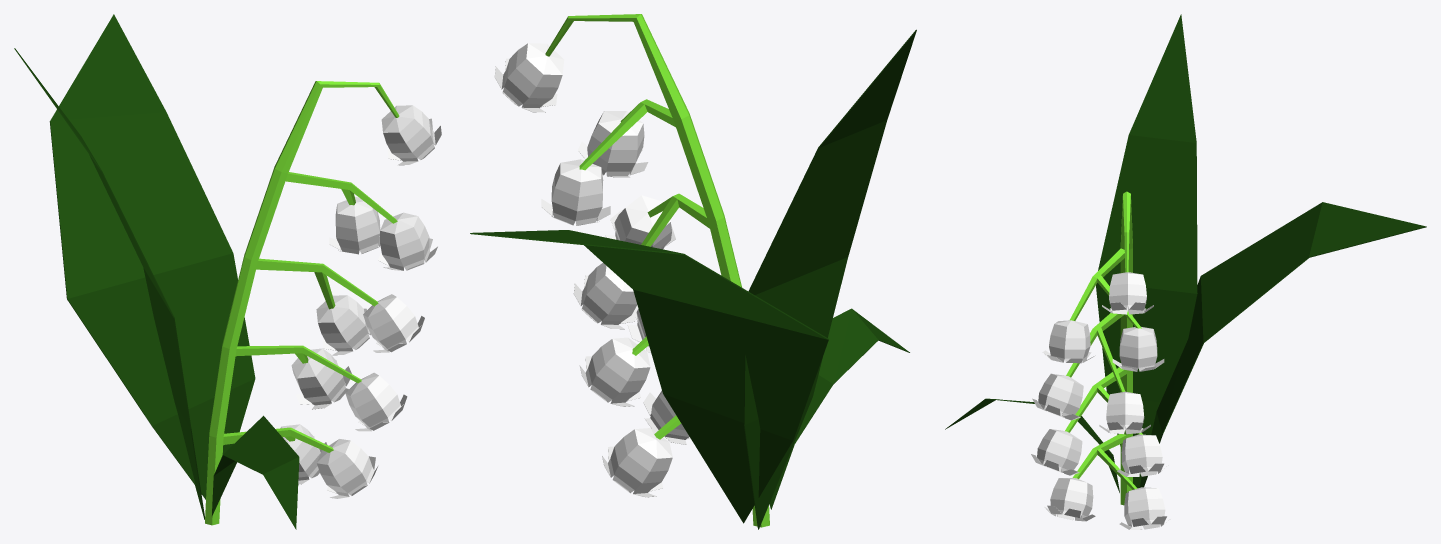
File: silverbell.fbx
3 views of the same model, side by side, from view 1: azimuth 30°, elevation 25°; view 2: azimuth 150°, elevation 25°; view 3: azimuth 270°, elevation 25° (orthographic). The views are drawn at different scales.
Parts seen in each view (by area): view 1: Line001; view 2: Line001; view 3: Line001.
Boxes of the visible parts, box(x1,y1,x2,y2) form: Line001: box(14, 14, 441, 529); Line001: box(470, 14, 916, 529); Line001: box(945, 14, 1426, 529).
Bounding box in the file's own units: 18.04 × 21.69 × 22.5.
